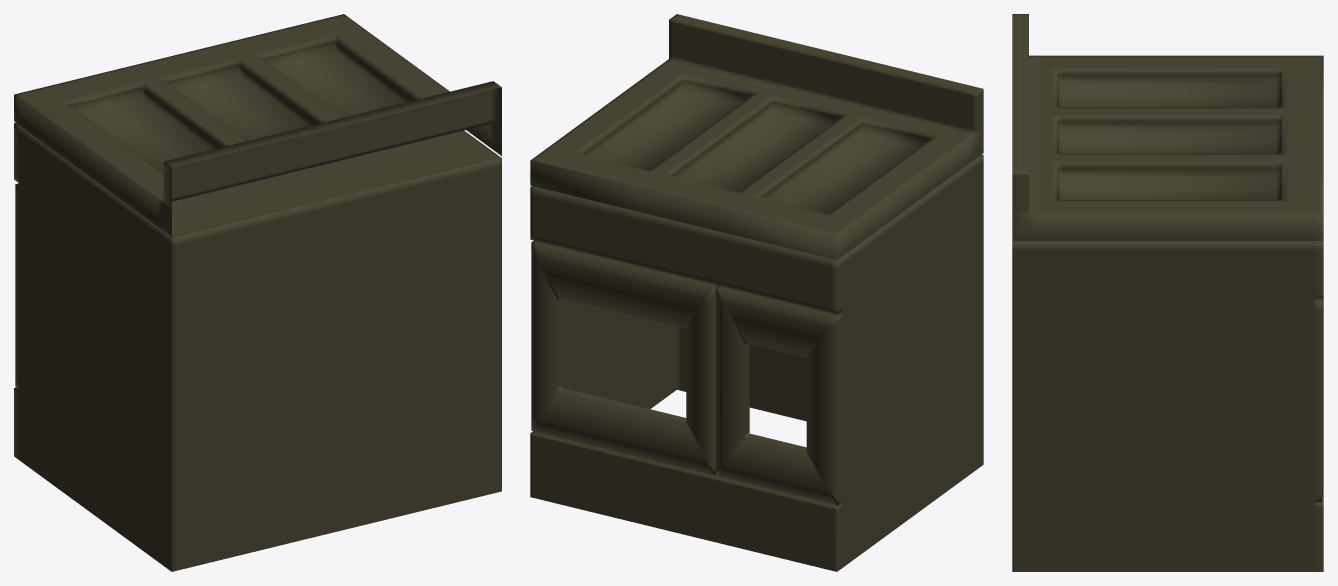
The model's file is Subsurfed_Porch.026.obj.
3 views of the same model, side by side, from view 1: azimuth 30°, elevation 25°; view 2: azimuth 150°, elevation 25°; view 3: azimuth 270°, elevation 25° (orthographic). The views are drawn at different scales.
Visible parts, largest first — view 1: Subsurfed_Porch.026_Cube.001; view 2: Subsurfed_Porch.026_Cube.001; view 3: Subsurfed_Porch.026_Cube.001.
Part boxes in pixels (left/top/right/bottom): Subsurfed_Porch.026_Cube.001: left=14, top=14, right=501, bottom=571; Subsurfed_Porch.026_Cube.001: left=530, top=14, right=983, bottom=571; Subsurfed_Porch.026_Cube.001: left=1012, top=14, right=1323, bottom=571.
Bounding box in the file's own units: 0.851 × 0.9959 × 0.7046.
